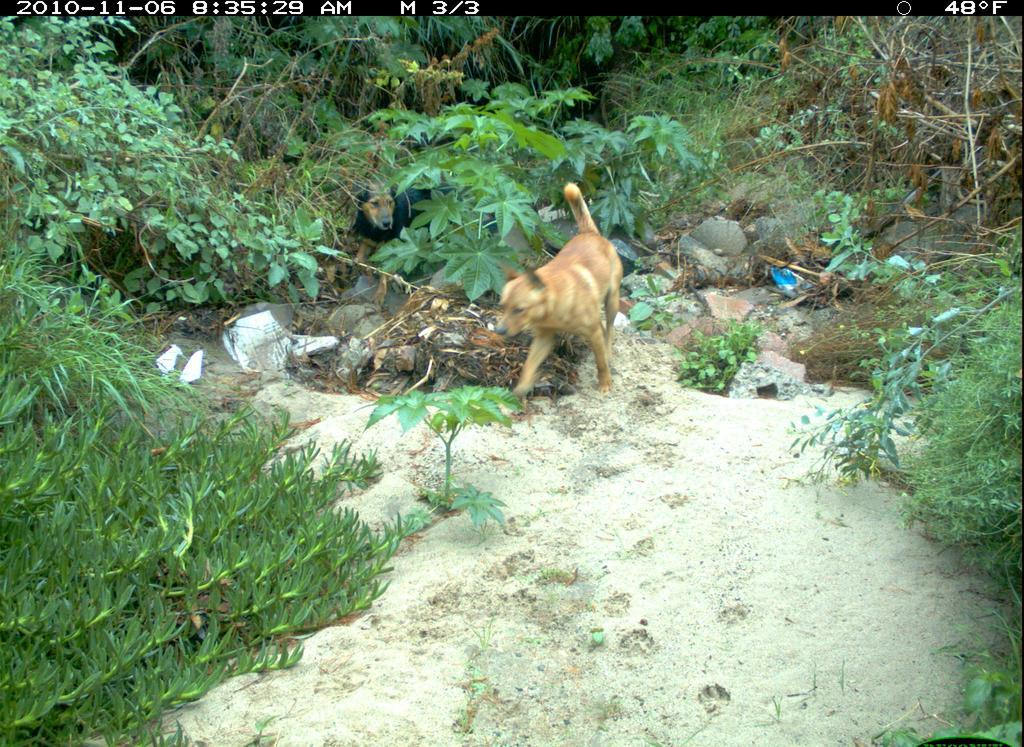dog: (488, 175, 641, 408), (347, 163, 465, 286)
